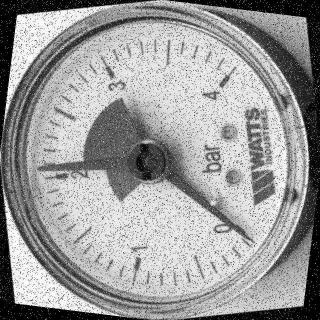gauge: (0, 0, 320, 320), (122, 137, 170, 186), (198, 65, 242, 105), (206, 205, 249, 245), (32, 160, 48, 176), (238, 227, 254, 243)
